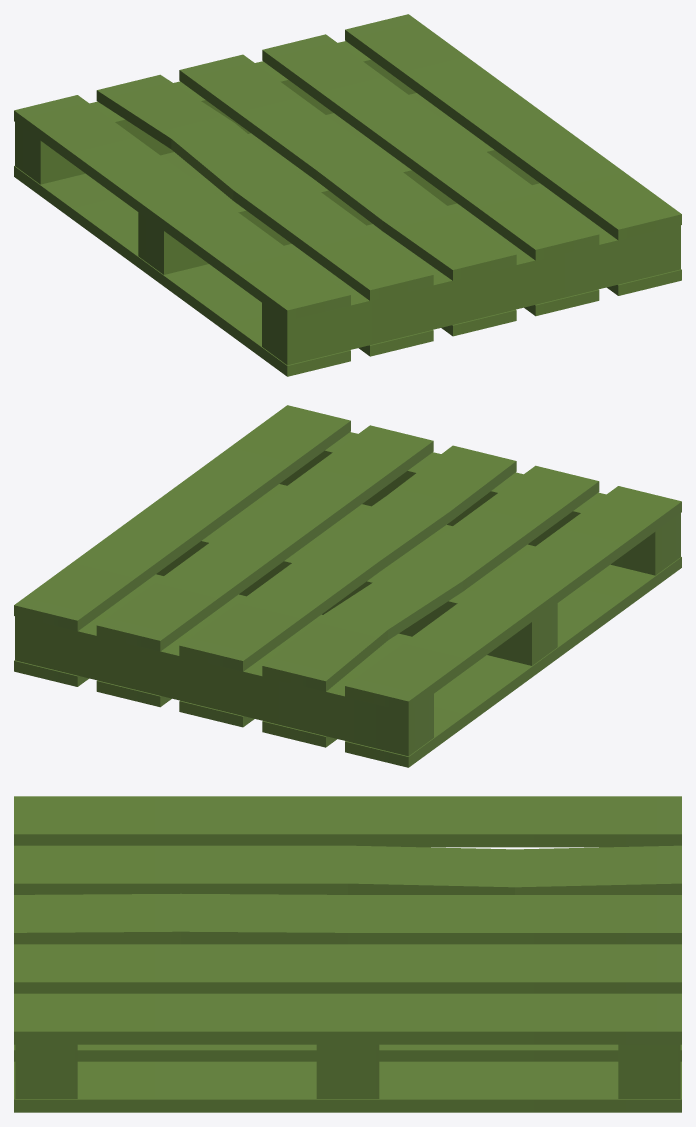
File: Pallet_01.fbx
3 renders of one model, top to bottom at view 1: azimuth 30°, elevation 25°; view 2: azimuth 150°, elevation 25°; view 3: azimuth 270°, elevation 25°, orthographic. The views are drawn at different scales.
Visible parts, largest first — view 1: Pallet_01; view 2: Pallet_01; view 3: Pallet_01.
Boxes of the visible parts, x1,y1,x2,y2 form: Pallet_01: [14, 14, 681, 376]; Pallet_01: [14, 405, 681, 767]; Pallet_01: [14, 796, 681, 1112].
Size of the model in its own units: 1.25 by 0.2009 by 1.5.
